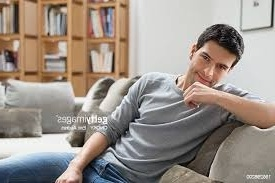not_fallen: (0, 18, 273, 183)
